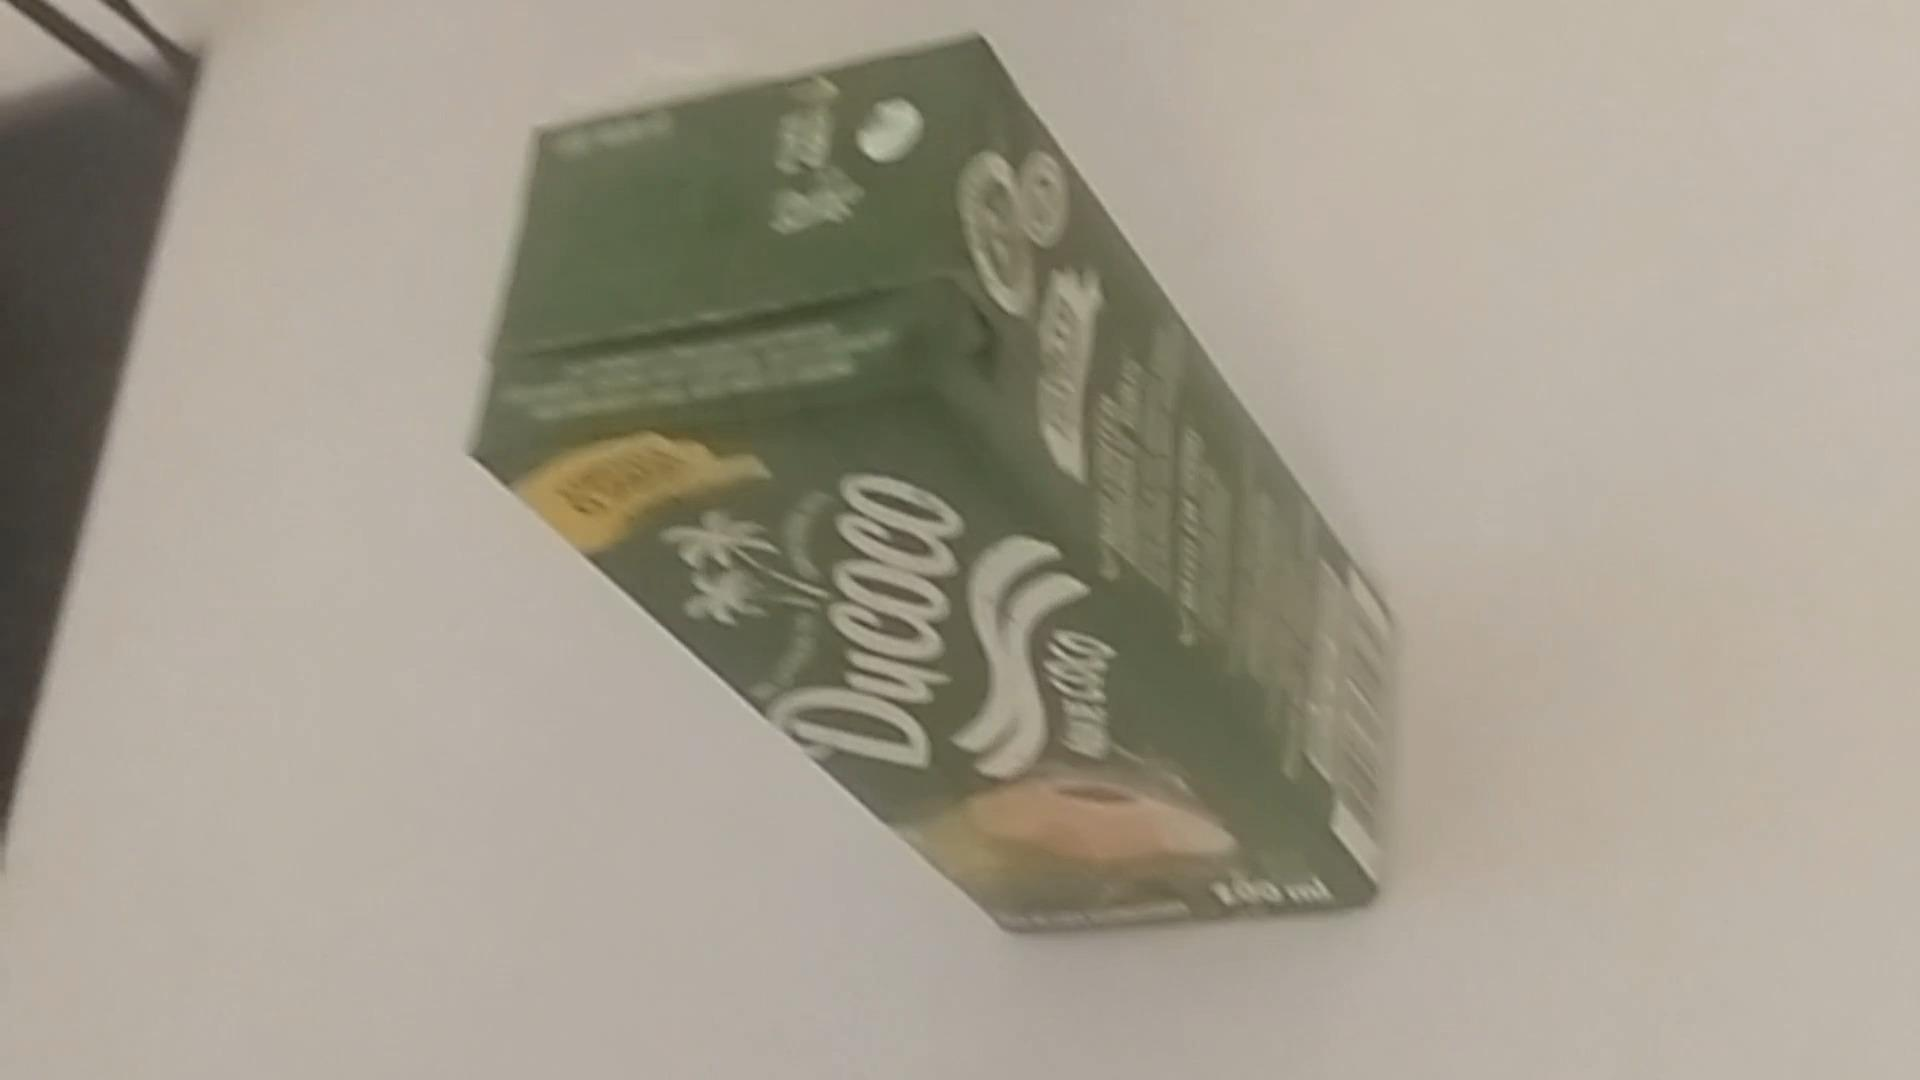coco: (467, 32, 1383, 942)
